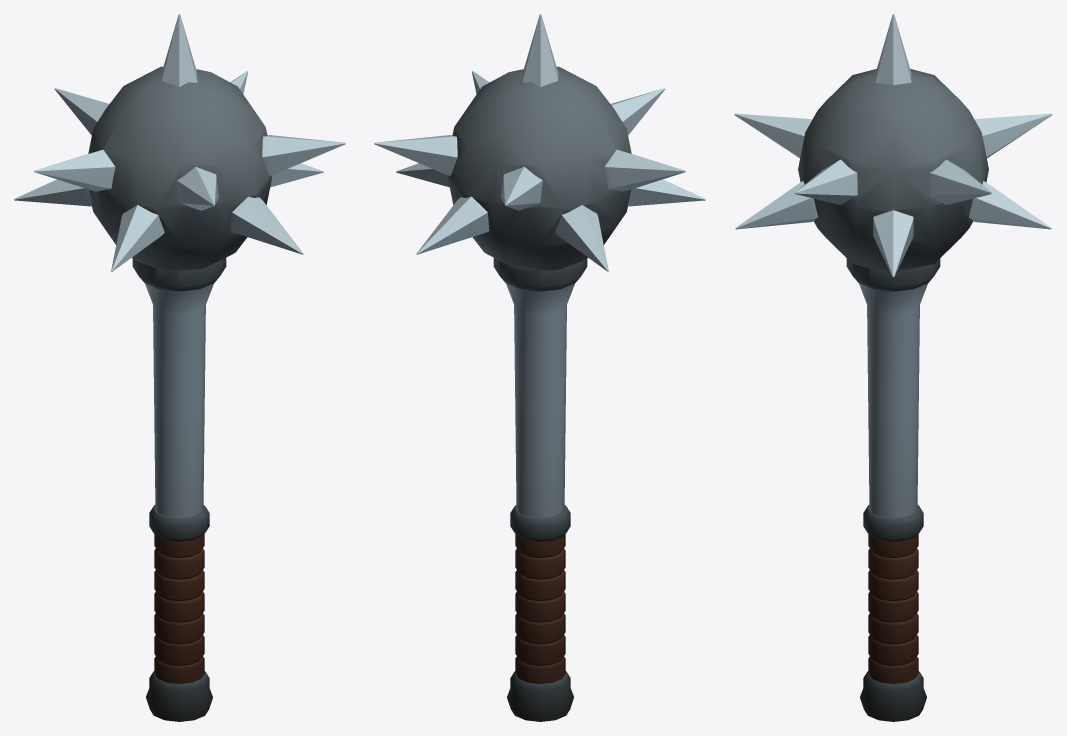
Rendered from morning_star_iron.glb.
3 views of the same model, side by side, from view 1: azimuth 30°, elevation 25°; view 2: azimuth 150°, elevation 25°; view 3: azimuth 270°, elevation 25° (orthographic).
Visible parts, largest first — view 1: Item; view 2: Item; view 3: Item.
Part boxes in pixels (<box>): Item: <box>14,14,345,721</box>; Item: <box>374,14,705,721</box>; Item: <box>734,14,1052,721</box>.
Size of the model in its own units: 0.6042 by 1.4 by 0.577.
Materials: 2 (2 with a texture image).
